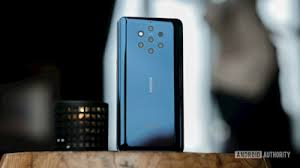nokia: (114, 12, 187, 155)
